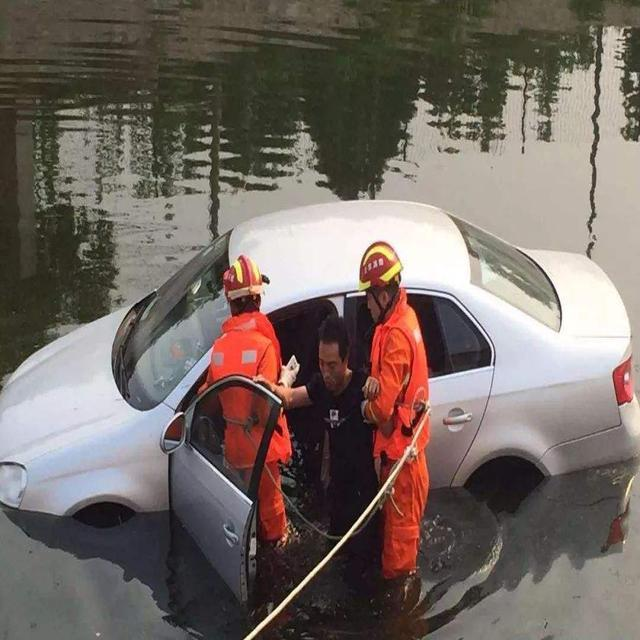Car-RiskLevel3: (6, 190, 639, 534)
Person-RiskLevel2: (343, 236, 466, 590), (203, 246, 304, 565), (283, 297, 373, 553)
